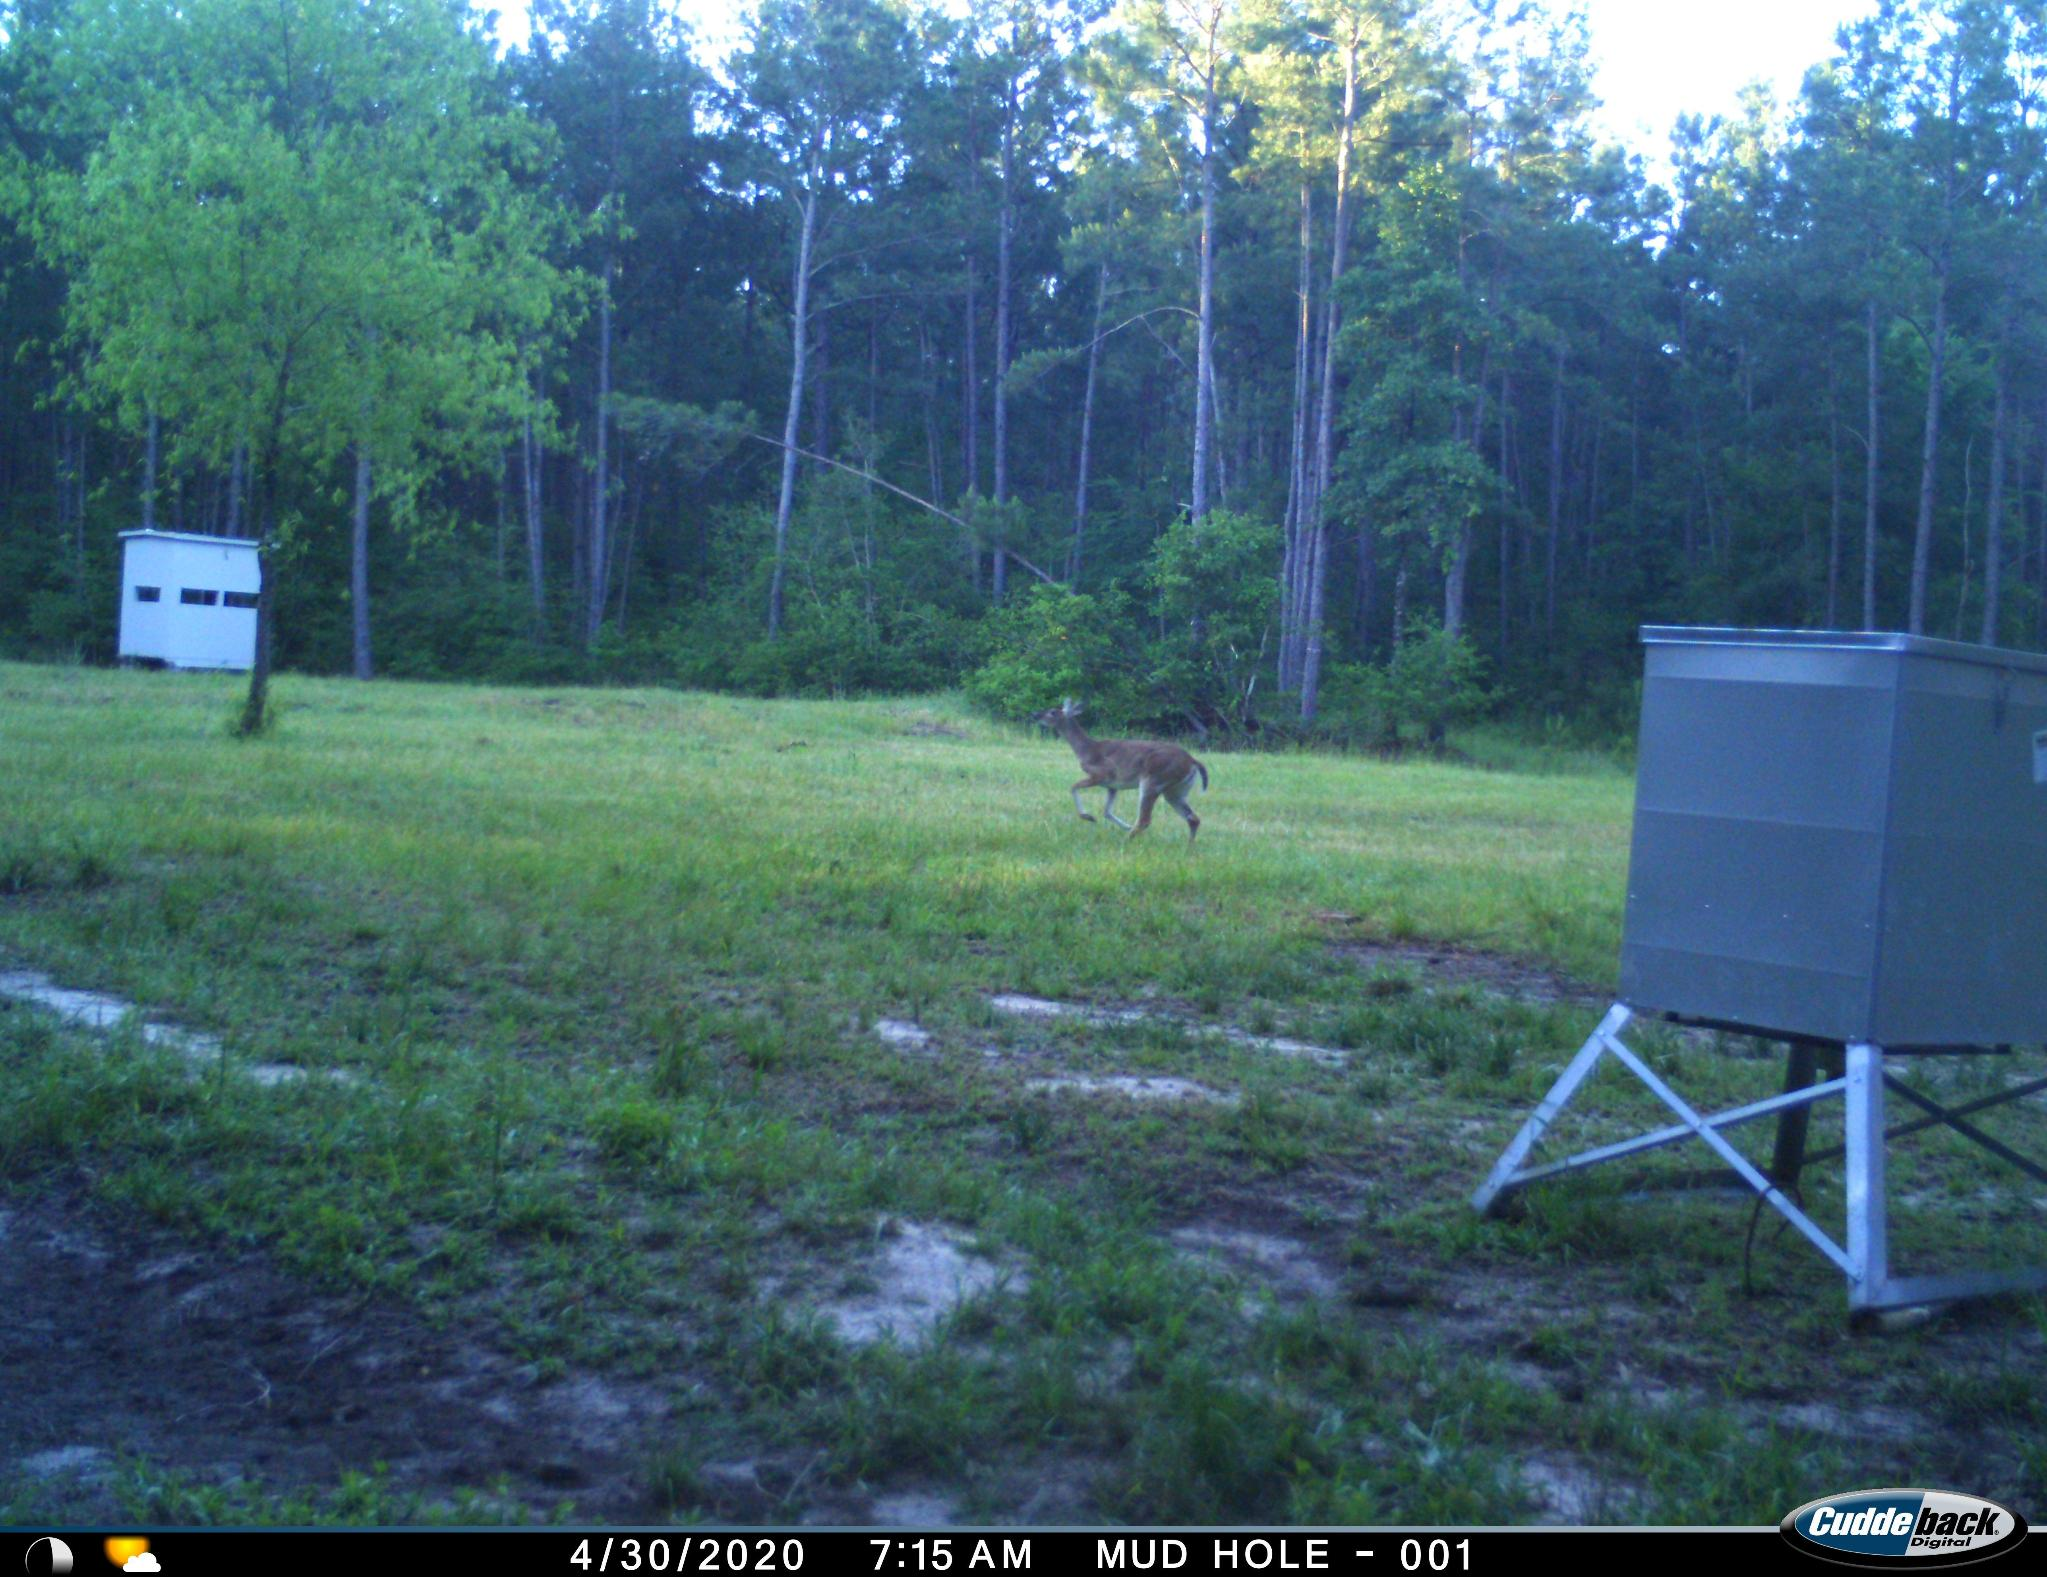Deer: (1028, 689, 1229, 856)
